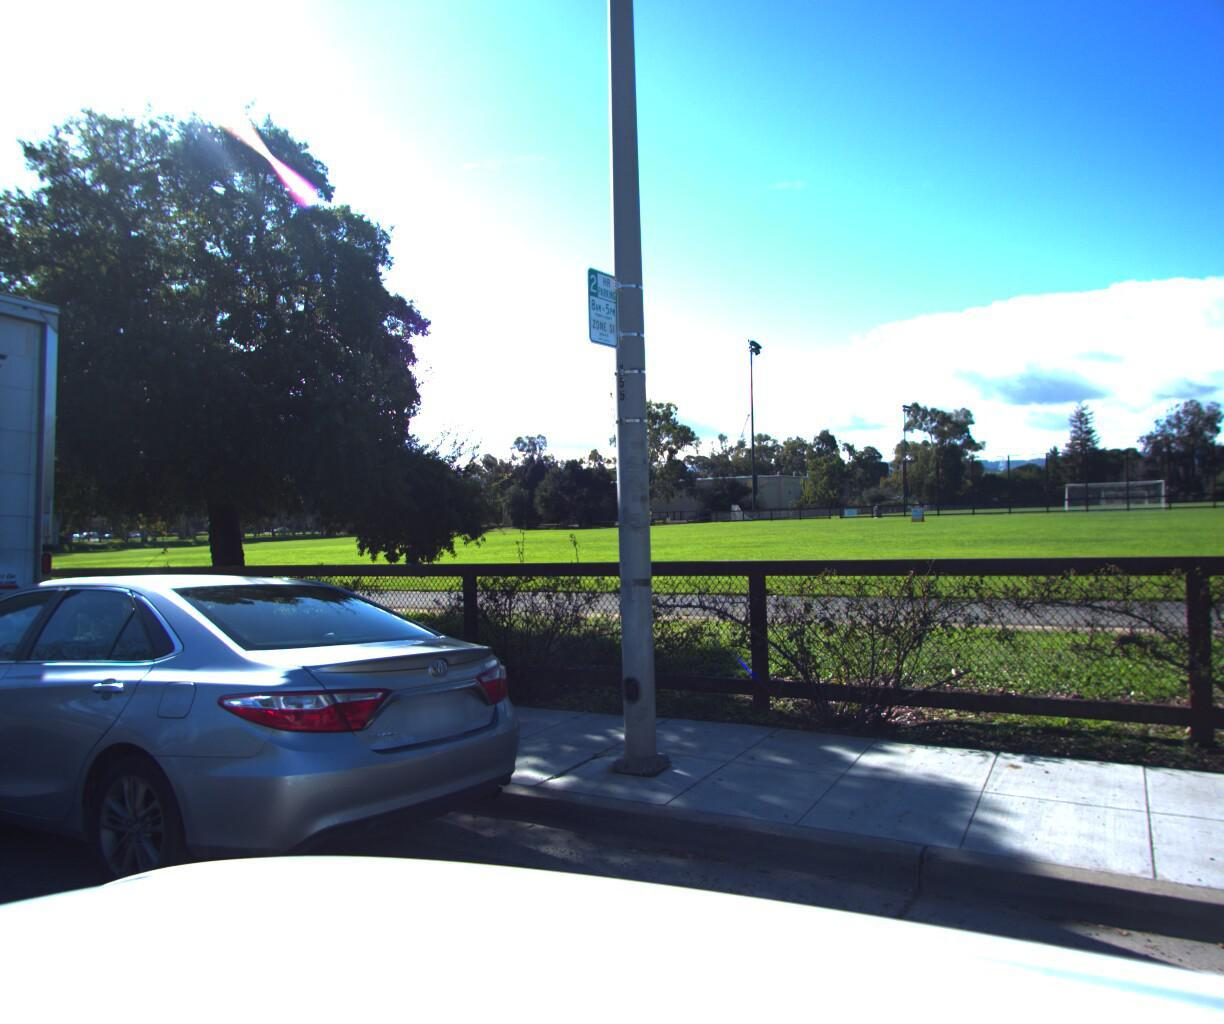car: (0, 554, 568, 1021)
truck: (0, 164, 107, 846)
